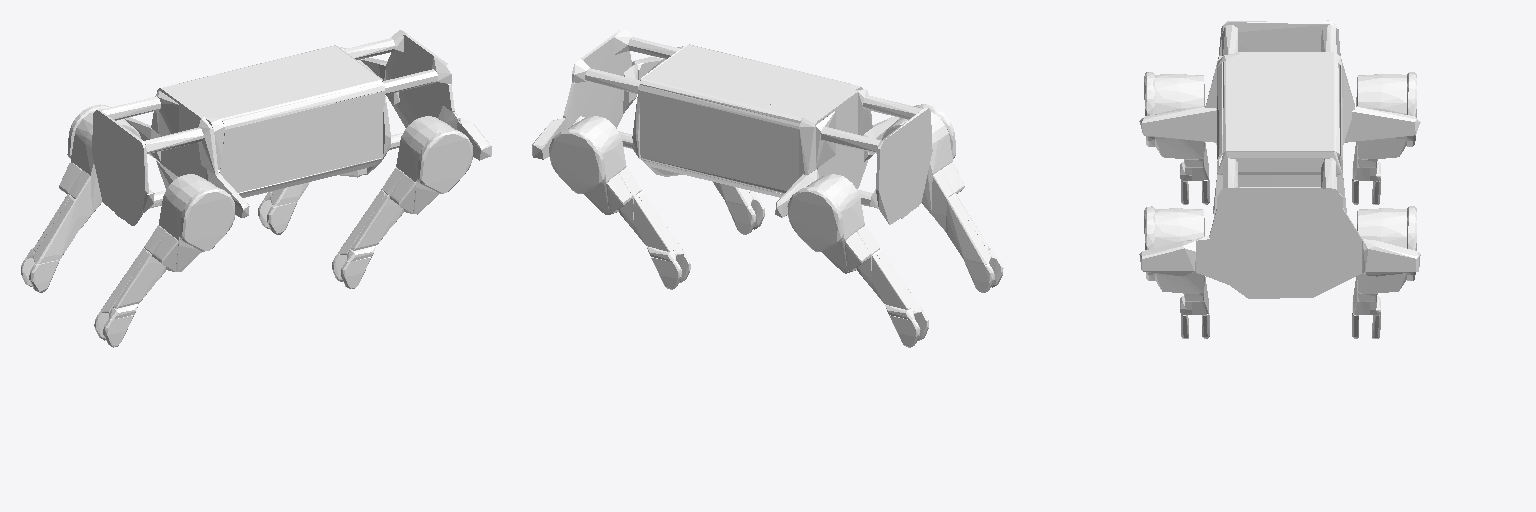
The robot description file, URDF, robot "laikago":
<?xml version="1.0" ?>
<robot name="laikago">
<mujoco>
    <compiler
    meshdir="./laikago" 
    balanceinertia="true"
    discardvisual="false" />
</mujoco>

  <!--==================== TODO ===========================================-->


  <!--==================== Model Description ==============================-->

  <!--=====================================================================-->
  <!--==================== Color Table ====================================-->
  <!--=====================================================================-->

  <material name="white">
    <color rgba="1.0 1.0 1.0 1"/>
  </material>

  <material name="silver">
    <color rgba="0.75 0.75 0.75 1"/>
  </material>

  <material name="gray">
    <color rgba="0.5 0.5 0.5 1"/>
  </material>

  <material name="black">
    <color rgba="0.0 0.0 0.0 1"/>
  </material>

  <material name="maroon">
    <color rgba="0.5 0.0 0.0 1"/>
  </material>

  <material name="red">
    <color rgba="1.0 0.0 0.0 1"/>
  </material>

  <material name="orange">
    <color rgba="1.0 0.65 0.0 1"/>
  </material>

  <material name="yellow">
    <color rgba="1.0 1.0 0.0 1"/>
  </material>

  <material name="olive">
    <color rgba="0.5 0.5 0.0 1"/>
  </material>

  <material name="lime">
    <color rgba="0.0 1.0 0.0 1"/>
  </material>

  <material name="green">
    <color rgba="0.0 0.5 0.0 1"/>
  </material>

  <material name="aqua">
    <color rgba="0.0 1.0 1.0 1"/>
  </material>

  <material name="blue">
    <color rgba="0.0 0.0 1.0 1"/>
  </material>

  <material name="navy">
    <color rgba="0.0 0.0 0.5 1"/>
  </material>

  <material name="teal">
    <color rgba="0.0 0.5 0.5 1"/>
  </material>

  <material name="fuchsia">
    <color rgba="1.0 0.0 1.0 1"/>
  </material>

  <material name="purple">
    <color rgba="0.5 0.0 0.5 1"/>
  </material>


  <!--=====================================================================-->
  <!--==================== Laikago quadruped ==============================-->
  <!--=====================================================================-->

  <!--==================== Physical Links =================================-->

  <link name="linkQuadBase">

    <contact>
      <lateral_friction value="1"/>
    </contact>

    <inertial>
      <origin rpy="0 0 0" xyz="0 0 0"/>
      <mass value="13.715"/>
      <inertia ixx="0" ixy="0" ixz="0" iyy="0" iyz="0" izz="0"/>
    </inertial>

    <visual>
      <origin rpy="0 0 0" xyz="0 0 0"/>
      <geometry>
        <mesh filename="./laikago/chassis_vhacd_mod_zup.stl" scale="1 1 1"/>
      </geometry>
      <material name="white"/>
    </visual>

    <collision>
      <origin rpy="0 0 0" xyz="0 0 0"/>
      <geometry>
        <mesh filename="./laikago/chassis_vhacd_mod_zup.stl" scale="1 1 1"/>
      </geometry>
    </collision>

  </link>


  <link name="linkQuadFR1">

    <contact>
      <lateral_friction value="1"/>
    </contact>

    <inertial>
      <origin rpy="0 0 0" xyz="0.02 0 0"/>
      <mass value="1.095"/>
      <inertia ixx="0" ixy="0" ixz="0" iyy="0" iyz="0" izz="0"/>
    </inertial>

    <visual>
      <origin rpy="0 0 0" xyz="0 0 0"/>
      <geometry>
        <mesh filename="./laikago/hip_motor_mirror.stl" scale="1 1 1"/>
      </geometry>
      <material name="white"/>
    </visual>

    <collision>
      <origin rpy="0 0 0" xyz="0 0 0"/>
      <geometry>
        <mesh filename="./laikago/hip_motor_mirror.stl" scale="1 1 1"/>
      </geometry>
    </collision>

  </link>


  <link name="linkQuadFR2">

    <contact>
      <lateral_friction value="1"/>
    </contact>

    <inertial>
      <origin rpy="0 0 0" xyz="0 -0.04 -0.04"/>
      <mass value="1.527"/>
      <inertia ixx="0" ixy="0" ixz="0" iyy="0" iyz="0" izz="0"/>
    </inertial>

    <visual>
      <origin rpy="0 0 0" xyz="0 0 0"/>
      <geometry>
        <mesh filename="./laikago/upper_leg_right_vhacd.stl" scale="1 1 1"/>
      </geometry>
      <material name="white"/>
    </visual>

    <collision>
      <origin rpy="0 0 0" xyz="0 0 0"/>
      <geometry>
        <mesh filename="./laikago/upper_leg_right_vhacd.stl" scale="1 1 1"/>
      </geometry>
    </collision>

  </link>


  <link name="linkQuadFR3">

    <contact>
      <lateral_friction value="1"/>
    </contact>

    <inertial>
      <origin rpy="0 0 0" xyz="0 -0.16 -0.02"/>
      <mass value="0.241"/>
      <inertia ixx="0" ixy="0" ixz="0" iyy="0" iyz="0" izz="0"/>
    </inertial>

    <visual>
      <origin rpy="0 1.57079 0" xyz="0 0.0 0"/>
      <geometry>
        <mesh filename="./laikago/lower_leg_3_collision.stl" scale="1 1 1"/>
      </geometry>
      <material name="white"/>
    </visual>

    <collision>
      <origin rpy="0 1.57079 0" xyz="0 0.0 0"/>
      <geometry>
        <mesh filename="./laikago/lower_leg_3_collision.stl" scale="1 1 1"/>
      </geometry>
    </collision>

  </link>


  <link name="linkQuadFRToe">

    <contact>
      <friction_anchor/>
      <stiffness value="30000.0"/>
      <damping value="1000.0"/>
      <spinning_friction value="0.1"/>
      <lateral_friction value="1.0"/>
    </contact>

    <visual>
      <origin rpy="0 0 0" xyz="0 0 0"/>
      <geometry>
        <sphere radius="0.0"/>
      </geometry>
      <material name="white"/>
    </visual>

    <collision>
      <origin rpy="0 0 0" xyz="0 0 0"/>
      <geometry>
        <sphere radius="0.03"/>
      </geometry>
    </collision>

    <inertial>
      <mass value="0.1"/>
      <inertia ixx="0.000025" ixy="0" ixz="0" iyy="0.000025" iyz="0" izz="0.000025"/>
    </inertial>

  </link>


  <link name="linkQuadFL1">

    <contact>
      <lateral_friction value="1"/>
    </contact>

    <inertial>
      <origin rpy="0 0 0" xyz="-.02 0 0"/>
      <mass value="1.095"/>
      <inertia ixx="0" ixy="0" ixz="0" iyy="0" iyz="0" izz="0"/>
    </inertial>

    <visual>
      <origin rpy="0 0 0" xyz="0 0 0"/>
      <geometry>
        <mesh filename="./laikago/hip_motor.stl" scale="1 1 1"/>
      </geometry>
      <material name="white"/>
    </visual>

    <collision>
      <origin rpy="0 0 0" xyz="0 0 0"/>
      <geometry>
        <mesh filename="./laikago/hip_motor.stl" scale="1 1 1"/>
      </geometry>
    </collision>

  </link>


  <link name="linkQuadFL2">

    <contact>
      <lateral_friction value="1"/>
    </contact>

    <inertial>
      <origin rpy="0 0 0" xyz="0 -0.04 -0.04"/>
      <mass value="1.527"/>
      <inertia ixx="0" ixy="0" ixz="0" iyy="0" iyz="0" izz="0"/>
    </inertial>

    <visual>
      <origin rpy="0 0 0" xyz="0 0 0"/>
      <geometry>
        <mesh filename="./laikago/upper_leg_left_vhacd.stl" scale="1 1 1"/>
      </geometry>
      <material name="white"/>
    </visual>

    <collision>
      <origin rpy="0 0 0" xyz="0 0 0"/>
      <geometry>
        <mesh filename="./laikago/upper_leg_left_vhacd.stl" scale="1 1 1"/>
      </geometry>
    </collision>

  </link>


  <link name="linkQuadFL3">

    <contact>
      <lateral_friction value="1"/>
    </contact>

    <inertial>
      <origin rpy="0 0 0" xyz="0 -0.16 -0.02"/>
      <mass value="0.241"/>
      <inertia ixx="0" ixy="0" ixz="0" iyy="0" iyz="0" izz="0"/>
    </inertial>

    <visual>
      <origin rpy="0 1.57079 0" xyz="0 0 0"/>
      <geometry>
        <mesh filename="./laikago/lower_leg_3_collision.stl" scale="1 1 1"/>
      </geometry>
      <material name="white"/>
    </visual>

    <collision>
      <origin rpy="0 1.57079 0" xyz="0 0 0"/>
      <geometry>
        <mesh filename="./laikago/lower_leg_3_collision.stl" scale="1 1 1"/>
      </geometry>
    </collision>

  </link>


  <link name="linkQuadFLToe">

    <contact>
      <friction_anchor/>
      <stiffness value="30000.0"/>
      <damping value="1000.0"/>
      <spinning_friction value="0.1"/>
      <lateral_friction value="1.0"/>
    </contact>

    <visual>
      <origin rpy="0 0 0" xyz="0 0 0"/>
      <geometry>
        <sphere radius="0.0"/>
      </geometry>
      <material name="white"/>
    </visual>

    <collision>
      <origin rpy="0 0 0" xyz="0 0 0"/>
      <geometry>
        <sphere radius="0.03"/>
      </geometry>
    </collision>

    <inertial>
      <mass value="0.1"/>
      <inertia ixx="0.000025" ixy="0" ixz="0" iyy="0.000025" iyz="0" izz="0.000025"/>
    </inertial>

  </link>


  <link name="linkQuadRR1">

    <contact>
      <lateral_friction value="1"/>
    </contact>

    <inertial>
      <origin rpy="0 0 0" xyz="0.02 0 0"/>
      <mass value="1.095"/>
      <inertia ixx="0" ixy="0" ixz="0" iyy="0" iyz="0" izz="0"/>
    </inertial>

    <visual>
      <origin rpy="0 0 0" xyz="0 0 0"/>
      <geometry>
        <mesh filename="./laikago/hip_motor_mirror.stl" scale="1 1 1"/>
      </geometry>
      <material name="white"/>
    </visual>

    <collision>
      <origin rpy="0 0 0" xyz="0 0 0"/>
      <geometry>
        <mesh filename="./laikago/hip_motor_mirror.stl" scale="1 1 1"/>
      </geometry>
    </collision>

  </link>


  <link name="linkQuadRR2">

    <contact>
      <lateral_friction value="1"/>
    </contact>

    <inertial>
      <origin rpy="0 0 0" xyz="0 -0.04 -0.04"/>
      <mass value="1.527"/>
      <inertia ixx="0" ixy="0" ixz="0" iyy="0" iyz="0" izz="0"/>
    </inertial>

    <visual>
      <origin rpy="0 0 0" xyz="0 0 0"/>
      <geometry>
        <mesh filename="./laikago/upper_leg_right_vhacd.stl" scale="1 1 1"/>
      </geometry>
      <material name="white"/>
    </visual>

    <collision>
      <origin rpy="0 0 0" xyz="0 0 0"/>
      <geometry>
        <mesh filename="./laikago/upper_leg_right_vhacd.stl" scale="1 1 1"/>
      </geometry>
    </collision>

  </link>


  <link name="linkQuadRR3">

    <contact>
      <lateral_friction value="1"/>
    </contact>

    <inertial>
      <origin rpy="0 0 0" xyz="0 -0.16 -0.02"/>
      <mass value="0.241"/>
      <inertia ixx="0" ixy="0" ixz="0" iyy="0" iyz="0" izz="0"/>
    </inertial>

    <visual>
      <origin rpy="0 1.57079 0" xyz="0 0 0"/>
      <geometry>
        <mesh filename="./laikago/lower_leg_3_collision.stl" scale="1 1 1"/>
      </geometry>
      <material name="white"/>
    </visual>

    <collision>
      <origin rpy="0 1.57079 0" xyz="0 0 0"/>
      <geometry>
        <mesh filename="./laikago/lower_leg_3_collision.stl" scale="1 1 1"/>
      </geometry>
    </collision>

  </link>


  <link name="linkQuadRRToe">

    <contact>
      <friction_anchor/>
      <stiffness value="30000.0"/>
      <damping value="1000.0"/>
      <spinning_friction value="0.1"/>
      <lateral_friction value="1.0"/>
    </contact>

    <visual>
      <origin rpy="0 0 0" xyz="0 0 0"/>
      <geometry>
        <sphere radius="0.0"/>
      </geometry>
      <material name="white"/>
    </visual>

    <collision>
      <origin rpy="0 0 0" xyz="0 0 0"/>
      <geometry>
        <sphere radius="0.03"/>
      </geometry>
    </collision>

    <inertial>
      <mass value="0.1"/>
      <inertia ixx="0.000025" ixy="0" ixz="0" iyy="0.000025" iyz="0" izz="0.000025"/>
    </inertial>

  </link>


  <link name="linkQuadRL1">

    <contact>
      <lateral_friction value="1"/>
    </contact>

    <inertial>
      <origin rpy="0 0 0" xyz="-.02 0 0"/>
      <mass value="1.095"/>
      <inertia ixx="0" ixy="0" ixz="0" iyy="0" iyz="0" izz="0"/>
    </inertial>

    <visual>
      <origin rpy="0 0 0" xyz="0 0 0"/>
      <geometry>
        <mesh filename="./laikago/hip_motor.stl" scale="1 1 1"/>
      </geometry>
      <material name="white"/>
    </visual>

    <collision>
      <origin rpy="0 0 0" xyz="0 0 0"/>
      <geometry>
        <mesh filename="./laikago/hip_motor.stl" scale="1 1 1"/>
      </geometry>
    </collision>

  </link>


  <link name="linkQuadRL2">

    <contact>
      <lateral_friction value="1"/>
    </contact>

    <inertial>
      <origin rpy="0 0 0" xyz="0 -0.04 -0.04"/>
      <mass value="1.527"/>
      <inertia ixx="0" ixy="0" ixz="0" iyy="0" iyz="0" izz="0"/>
    </inertial>

    <visual>
      <origin rpy="0 0 0" xyz="0 0 0"/>
      <geometry>
        <mesh filename="./laikago/upper_leg_left_vhacd.stl" scale="1 1 1"/>
      </geometry>
      <material name="white"/>
    </visual>

    <collision>
      <origin rpy="0 0 0" xyz="0 0 0"/>
      <geometry>
        <mesh filename="./laikago/upper_leg_left_vhacd.stl" scale="1 1 1"/>
      </geometry>
    </collision>

  </link>


  <link name="linkQuadRL3">

    <contact>
      <lateral_friction value="1"/>
    </contact>

    <inertial>
      <origin rpy="0 0 0" xyz="0 -0.16 -0.02"/>
      <mass value="0.241"/>
      <inertia ixx="0" ixy="0" ixz="0" iyy="0" iyz="0" izz="0"/>
    </inertial>

    <visual>
      <origin rpy="0 1.57079 0" xyz="0 0 0"/>
      <geometry>
        <mesh filename="./laikago/lower_leg_3_collision.stl" scale="1 1 1"/>
      </geometry>
      <material name="white"/>
    </visual>

    <collision>
      <origin rpy="0 1.57079 0" xyz="0 0 0"/>
      <geometry>
        <mesh filename="./laikago/lower_leg_3_collision.stl" scale="1 1 1"/>
      </geometry>
    </collision>

  </link>


  <link name="linkQuadRLToe">

    <contact>
      <friction_anchor/>
      <stiffness value="30000.0"/>
      <damping value="1000.0"/>
      <spinning_friction value="0.1"/>
      <lateral_friction value="1.0"/>
    </contact>

    <visual>
      <origin rpy="0 0 0" xyz="0 0 0"/>
      <geometry>
        <sphere radius="0.0"/>
      </geometry>
      <material name="white"/>
    </visual>

    <collision>
      <origin rpy="0 0 0" xyz="0 0 0"/>
      <geometry>
        <sphere radius="0.03"/>
      </geometry>
    </collision>

    <inertial>
      <mass value="0.1"/>
      <inertia ixx="0.000025" ixy="0" ixz="0" iyy="0.000025" iyz="0" izz="0.000025"/>
    </inertial>

  </link>


  <!--==================== Active Joints ==================================-->

  <joint name="jointQuadFR1" type="continuous">

    <axis xyz="0 0 1"/>
    <parent link="linkQuadBase"/>
    <child link="linkQuadFR1"/>
    <origin rpy="1.57079 0 1.57079" xyz="0.199095 -0.0817145 -0.03"/>

    <limit effort="100" velocity="100"/>
    <joint_properties damping=".0" friction=".0"/>

  </joint>


  <joint name="jointQuadFR2" type="continuous">

    <axis xyz="-1 0 0"/>
    <parent link="linkQuadFR1"/>
    <child link="linkQuadFR2"/>
    <origin rpy="0 0 0" xyz="-0.053565 0 0"/>

    <limit effort="100" velocity="100"/>
    <joint_properties damping=".0" friction=".0"/>

  </joint>


  <joint name="jointQuadFR3" type="continuous">

    <axis xyz="-1 0 0"/>
    <parent link="linkQuadFR2"/>
    <child link="linkQuadFR3"/>
    <origin rpy="0 0 0" xyz="0.02069  -0.20833  -0.1422"/>

    <limit effort="100" velocity="100"/>
    <joint_properties damping=".0" friction=".0"/>

  </joint>


  <joint name="jointQuadFR4" type="fixed">

    <parent link="linkQuadFR3"/>
    <child link="linkQuadFRToe"/>
    <origin xyz="0 -0.25 -0.022"/>
    <dynamics damping="0.0" friction="0.0"/>

  </joint>


  <joint name="jointQuadFL1" type="continuous">

    <axis xyz="0 0 1"/>
    <parent link="linkQuadBase"/>
    <child link="linkQuadFL1"/>
    <origin rpy="1.57079 0 1.57079" xyz="0.199095 0.0817145 -0.03"/>

    <limit effort="100" velocity="100"/>
    <joint_properties damping=".0" friction=".0"/>

  </joint>


  <joint name="jointQuadFL2" type="continuous">

    <axis xyz="-1 0 0"/>
    <parent link="linkQuadFL1"/>
    <child link="linkQuadFL2"/>
    <origin rpy="0 0 0" xyz="0.055855  0 0"/>

    <limit effort="100" velocity="100"/>
    <joint_properties damping=".0" friction=".0"/>

  </joint>


  <joint name="jointQuadFL3" type="continuous">

    <axis xyz="-1 0 0"/>
    <parent link="linkQuadFL2"/>
    <child link="linkQuadFL3"/>
    <origin rpy="0 0 0" xyz="-0.02069  -0.20833  -0.1422"/>

    <limit effort="100" velocity="100"/>
    <joint_properties damping=".0" friction=".0"/>

  </joint>


  <joint name="jointQuadFL4" type="fixed">

    <parent link="linkQuadFL3"/>
    <child link="linkQuadFLToe"/>
    <origin xyz="0 -0.25 -0.022"/>
    <dynamics damping="0.0" friction="0.0"/>

  </joint>


  <joint name="jointQuadRR1" type="continuous">

    <axis xyz="0 0 1"/>
    <parent link="linkQuadBase"/>
    <child link="linkQuadRR1"/>
    <origin rpy="1.57079 0 1.57079" xyz="-0.238195 -0.0817145 -0.03"/>

    <limit effort="100" velocity="100"/>
    <joint_properties damping=".0" friction=".0"/>

  </joint>


  <joint name="jointQuadRR2" type="continuous">

    <axis xyz="-1 0 0"/>
    <parent link="linkQuadRR1"/>
    <child link="linkQuadRR2"/>
    <origin rpy="0 0 0" xyz="-0.053565 0 0"/>

    <limit effort="100" velocity="100"/>
    <joint_properties damping=".0" friction=".0"/>

  </joint>


  <joint name="jointQuadRR3" type="continuous">

    <axis xyz="-1 0 0"/>
    <parent link="linkQuadRR2"/>
    <child link="linkQuadRR3"/>
    <origin rpy="0 0 0" xyz="0.02069  -0.20833  -0.1422"/>

    <limit effort="100" velocity="100"/>
    <joint_properties damping=".0" friction=".0"/>

  </joint>


  <joint name="jointQuadRR4" type="fixed">

    <parent link="linkQuadRR3"/>
    <child link="linkQuadRRToe"/>
    <origin xyz="0 -0.25 -0.022"/>
    <dynamics damping="0.0" friction="0.0"/>

  </joint>


  <joint name="jointQuadRL1" type="continuous">

    <axis xyz="0 0 1"/>
    <parent link="linkQuadBase"/>
    <child link="linkQuadRL1"/>
    <origin rpy="1.57079 0 1.57079" xyz="-0.238195 0.0817145 -0.03"/>

    <limit effort="100" velocity="100"/>
    <joint_properties damping=".0" friction=".0"/>

  </joint>


  <joint name="jointQuadRL2" type="continuous">

    <axis xyz="-1 0 0"/>
    <parent link="linkQuadRL1"/>
    <child link="linkQuadRL2"/>
    <origin rpy="0 0 0" xyz="0.055855  0 0"/>

    <limit effort="100" velocity="100"/>
    <joint_properties damping=".0" friction=".0"/>

  </joint>


  <joint name="jointQuadRL3" type="continuous">

    <axis xyz="-1 0 0"/>
    <parent link="linkQuadRL2"/>
    <child link="linkQuadRL3"/>
    <origin rpy="0 0 0" xyz="-0.02069  -0.20833  -0.1422"/>

    <limit effort="100" velocity="100"/>
    <joint_properties damping=".0" friction=".0"/>

  </joint>


  <joint name="jointQuadRL4" type="fixed">

    <parent link="linkQuadRL3"/>
    <child link="linkQuadRLToe"/>
    <origin xyz="0 -0.25 -0.022"/>
    <dynamics damping="0.0" friction="0.0"/>

  </joint>

</robot>

--- What the picture shows (computed from the rendered views, not written in the file) ---
3 views of the same robot in one strip: view 1: azimuth 30°, elevation 25°; view 2: azimuth 150°, elevation 25°; view 3: azimuth 270°, elevation 25° (orthographic).
Robot: laikago — 17 links, 16 joints (12 continuous, 4 fixed); root link linkQuadBase; default pose: every joint at zero.
Links seen in each view (by area): view 1: linkQuadBase, linkQuadFR2, linkQuadRR2, linkQuadRL2, linkQuadFL2; view 2: linkQuadBase, linkQuadFL2, linkQuadRL2, linkQuadRR2, linkQuadFR2; view 3: linkQuadBase, linkQuadRL2, linkQuadRR2, linkQuadFR2, linkQuadFL2.
Boxes of the visible links, x1,y1,x2,y2 form: linkQuadBase: [92, 30, 491, 225]; linkQuadFR2: [332, 116, 472, 288]; linkQuadRR2: [94, 174, 234, 347]; linkQuadRL2: [21, 104, 140, 292]; linkQuadFL2: [258, 47, 373, 234]; linkQuadBase: [532, 28, 932, 224]; linkQuadFL2: [549, 116, 690, 289]; linkQuadRL2: [787, 174, 928, 347]; linkQuadRR2: [882, 104, 1003, 292]; linkQuadFR2: [648, 46, 764, 234]; linkQuadBase: [1139, 20, 1420, 298]; linkQuadRL2: [1352, 72, 1416, 204]; linkQuadRR2: [1144, 72, 1209, 204]; linkQuadFR2: [1144, 206, 1209, 338]; linkQuadFL2: [1352, 206, 1416, 338].
Size in the robot's own frame: 0.6791 by 0.3872 by 0.5664 metres.
5 mesh visuals loaded from 6 distinct referenced files (3 binary STL); not drawn: 8 (reference not matched to a file when rendering).